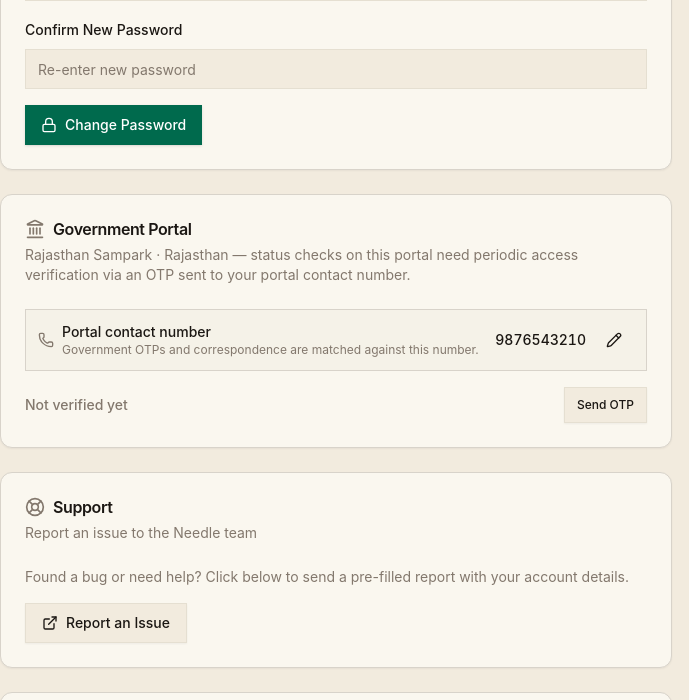
Test: Government portal contact number — editing an existing number › shows the saved number read-only, then reveals the input on edit
(page scrolled)
Check: the heading "Government Portal" is shown, box [53, 221, 192, 237]
Check: the text "9876543210" is shown, box [495, 330, 586, 350]
Click the 2nd button: coordinates (614, 340) [594, 322, 634, 358]
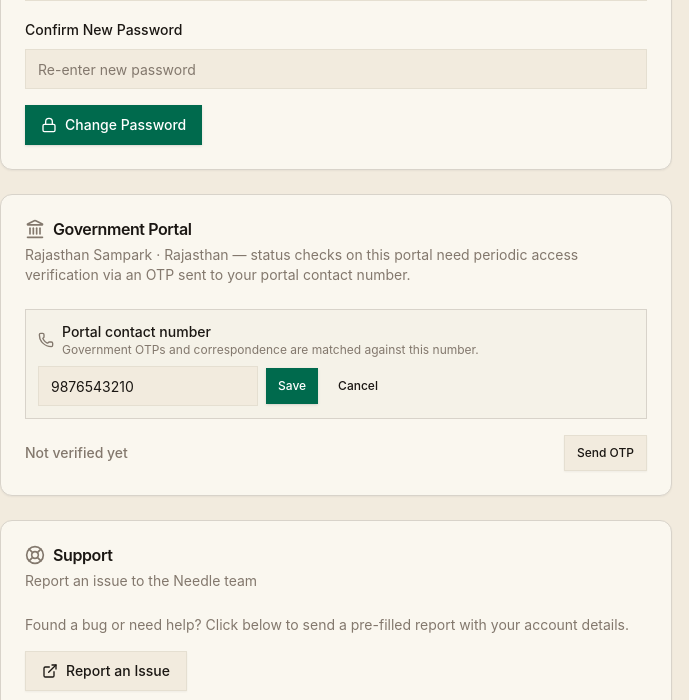
Check: the field with placeholder "10-digit mobile number" is shown, box [38, 366, 258, 406]
